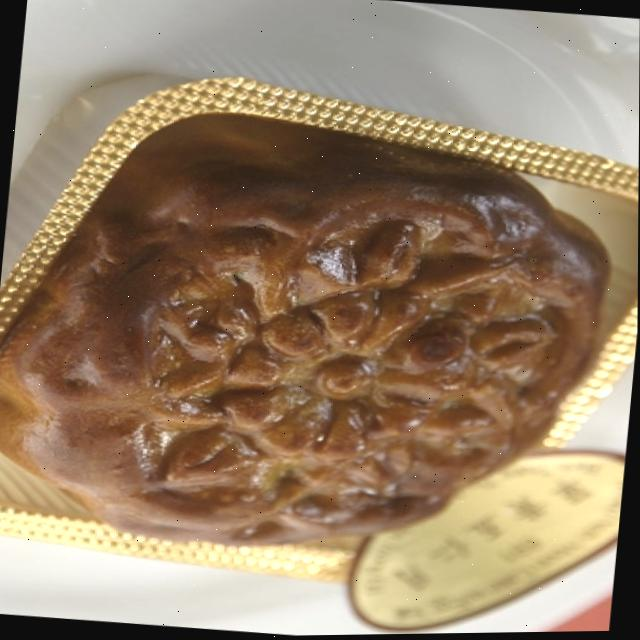蛋糕甜品: (21, 104, 600, 578)
